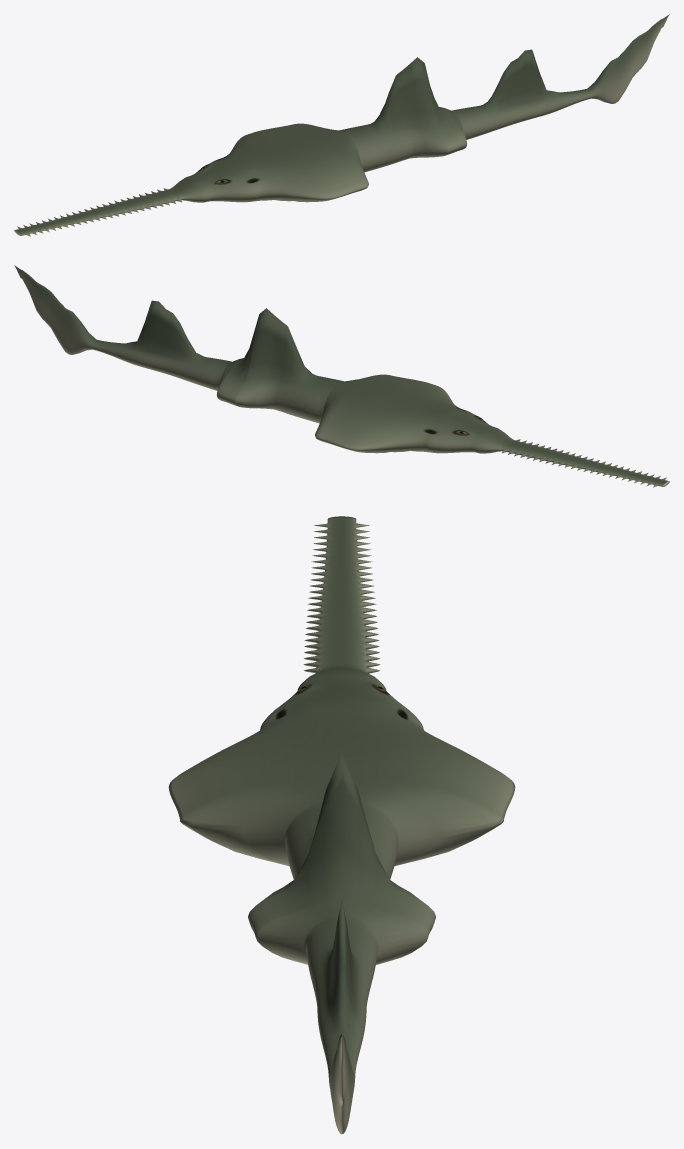
3 views of the same model, one above another, from view 1: azimuth 30°, elevation 25°; view 2: azimuth 150°, elevation 25°; view 3: azimuth 270°, elevation 25° (orthographic). The views are drawn at different scales.
Visible parts, largest first — view 1: Smalltooth_sawfish; view 2: Smalltooth_sawfish; view 3: Smalltooth_sawfish.
Boxes of the visible parts, x1=… form: Smalltooth_sawfish: x1=14, y1=14, x2=669, y2=236; Smalltooth_sawfish: x1=14, y1=265, x2=669, y2=487; Smalltooth_sawfish: x1=168, y1=516, x2=515, y2=1134.
Bounding box in the file's own units: 4 × 0.58 × 0.92.
Materials: 1 (1 with a texture image).
